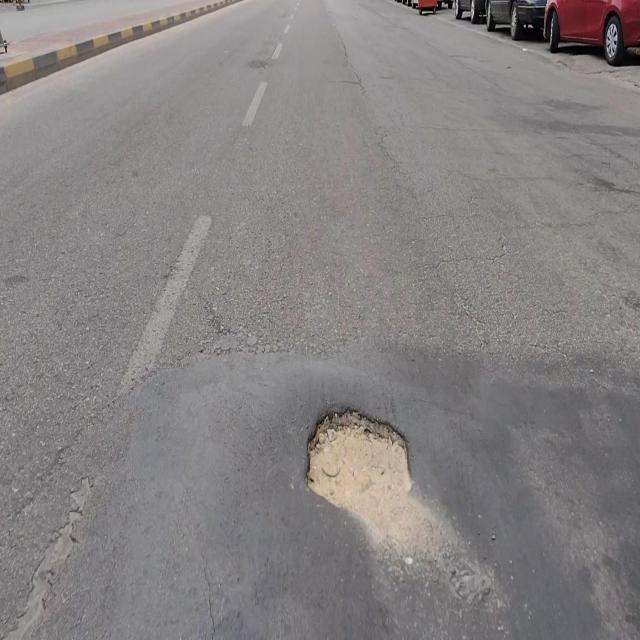Potholes: (306, 403, 417, 539)
